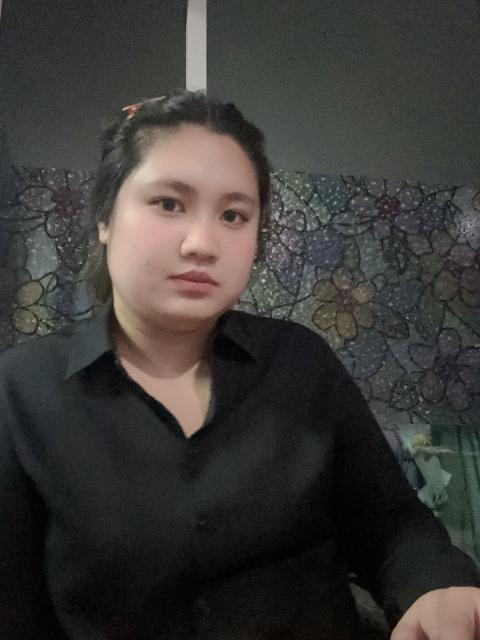fokus: (113, 107, 258, 321)
